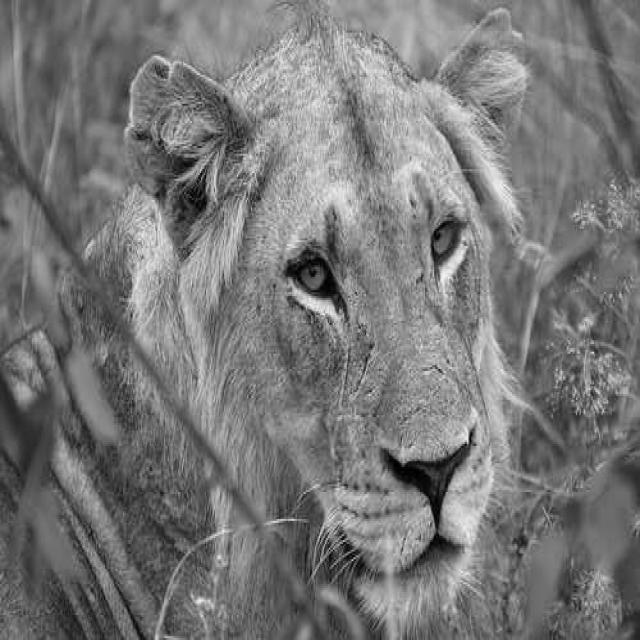Lion: (94, 21, 631, 640)
